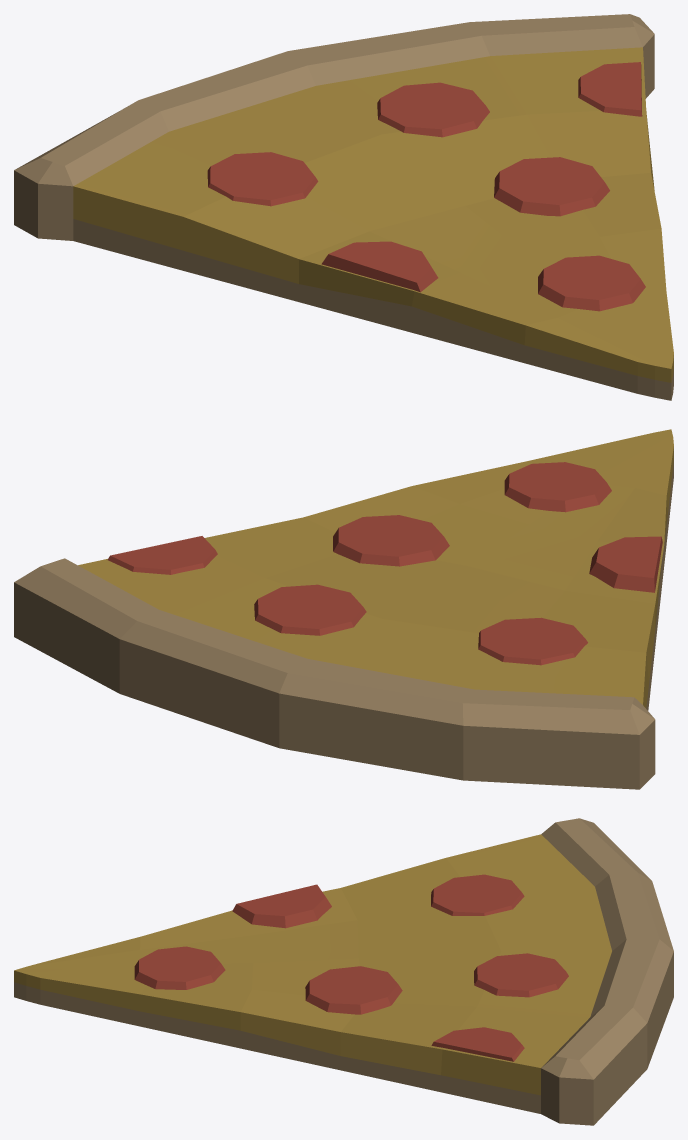
Rendered from food-Pizza_Slice.glb.
3 views of the same model, one above another, from view 1: azimuth 30°, elevation 25°; view 2: azimuth 150°, elevation 25°; view 3: azimuth 270°, elevation 25° (orthographic). The views are drawn at different scales.
Parts seen in each view (by area): view 1: Pizza_Slice; view 2: Pizza_Slice; view 3: Pizza_Slice.
Boxes of the visible parts, x1=… form: Pizza_Slice: x1=14, y1=14, x2=673, y2=400; Pizza_Slice: x1=14, y1=429, x2=673, y2=789; Pizza_Slice: x1=14, y1=818, x2=673, y2=1125.
Size of the model in its own units: 1.07 by 0.1128 by 1.16.
